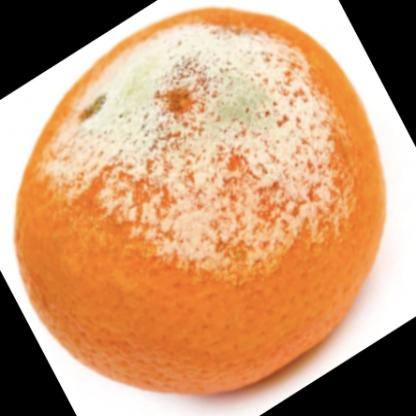rotten_orange: (8, 6, 391, 393)
